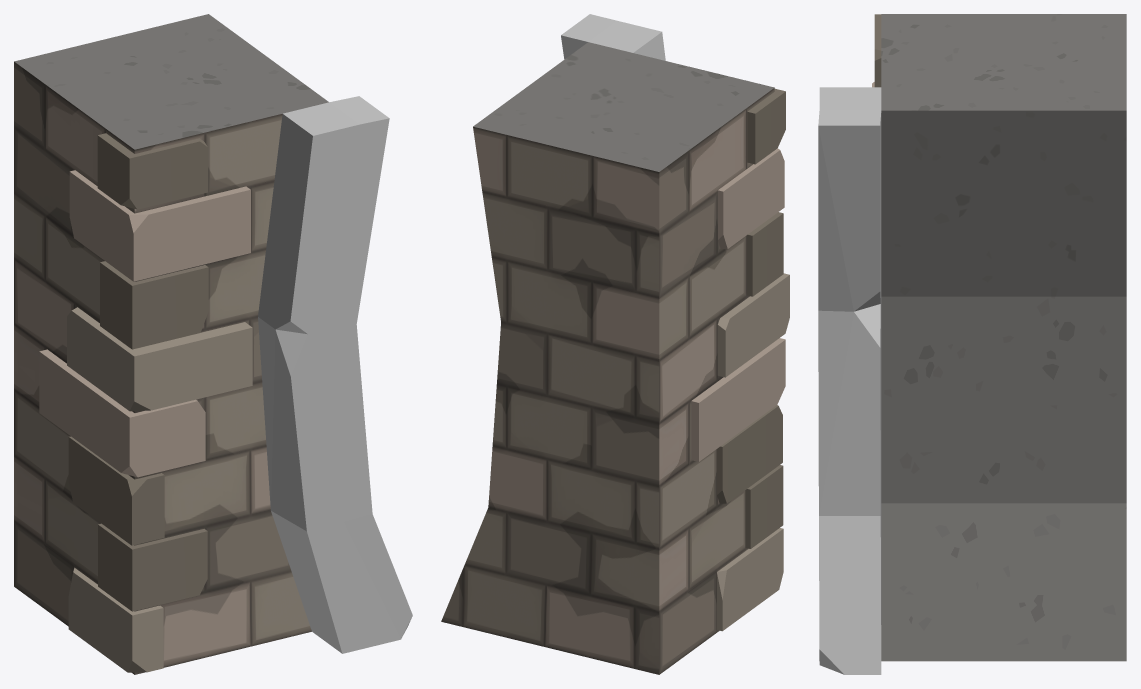
Rendered from SM_Bld_Tunnel_Curved_Wall_End_01.fbx.
3 renders of one model, left to right at view 1: azimuth 30°, elevation 25°; view 2: azimuth 150°, elevation 25°; view 3: azimuth 270°, elevation 25°, orthographic. The views are drawn at different scales.
Visible parts, largest first — view 1: SM_Bld_Tunnel_Curved_Wall_End_01; view 2: SM_Bld_Tunnel_Curved_Wall_End_01; view 3: SM_Bld_Tunnel_Curved_Wall_End_01.
Part boxes in pixels (x1,y1,x2,y2): SM_Bld_Tunnel_Curved_Wall_End_01: (14,14,412,674); SM_Bld_Tunnel_Curved_Wall_End_01: (441,14,789,674); SM_Bld_Tunnel_Curved_Wall_End_01: (818,14,1126,674).
Bounding box in the file's own units: 158 × 300 × 157.
